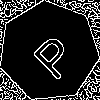P: (24, 26, 80, 83)
